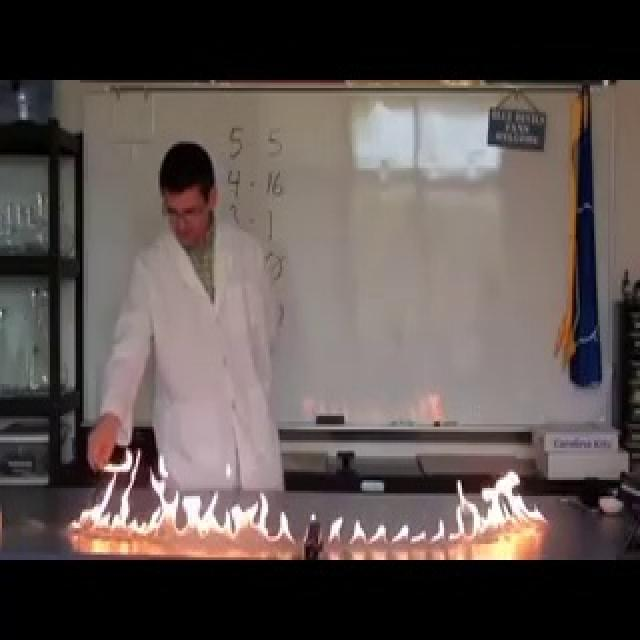fire: (61, 452, 296, 546), (451, 462, 550, 544)
